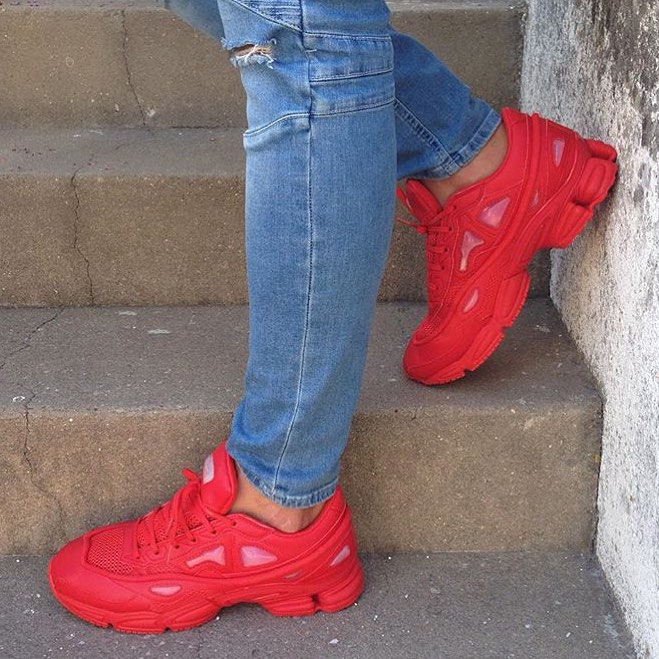sneaker: (29, 413, 381, 649), (374, 87, 632, 407)
